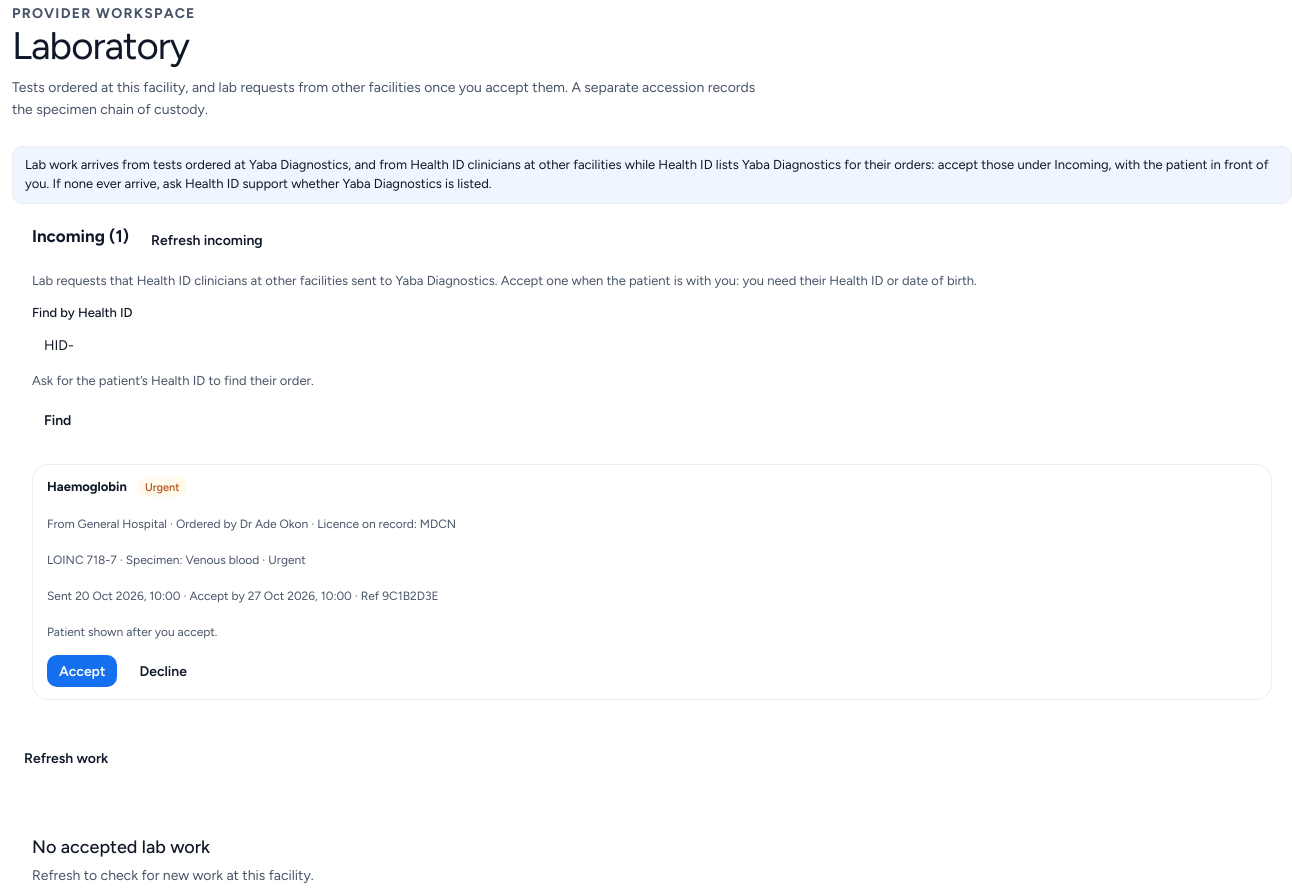
Test: Incoming at a laboratory › says what a refused acceptance means (ORDER_ROUTE_ACCEPT_LOCKED)
The image size is (1292, 893).
Click the button "Accept" at (82, 671), box [47, 655, 118, 687]
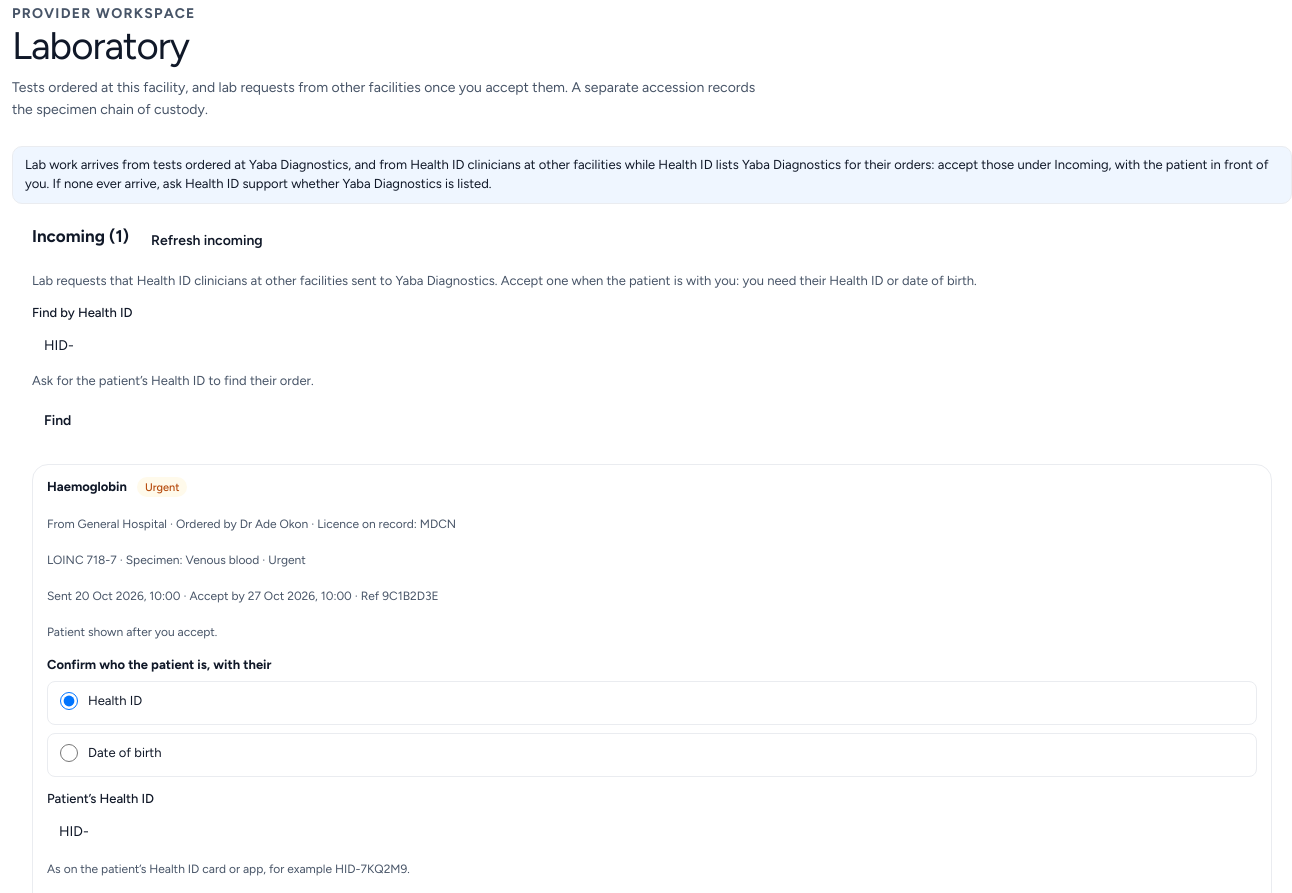
Replace the text in the field labelled "Patient’s Health ID" with "HID-7KQ2M9" at (652, 832), box [47, 813, 1257, 850]
(page scrolled)
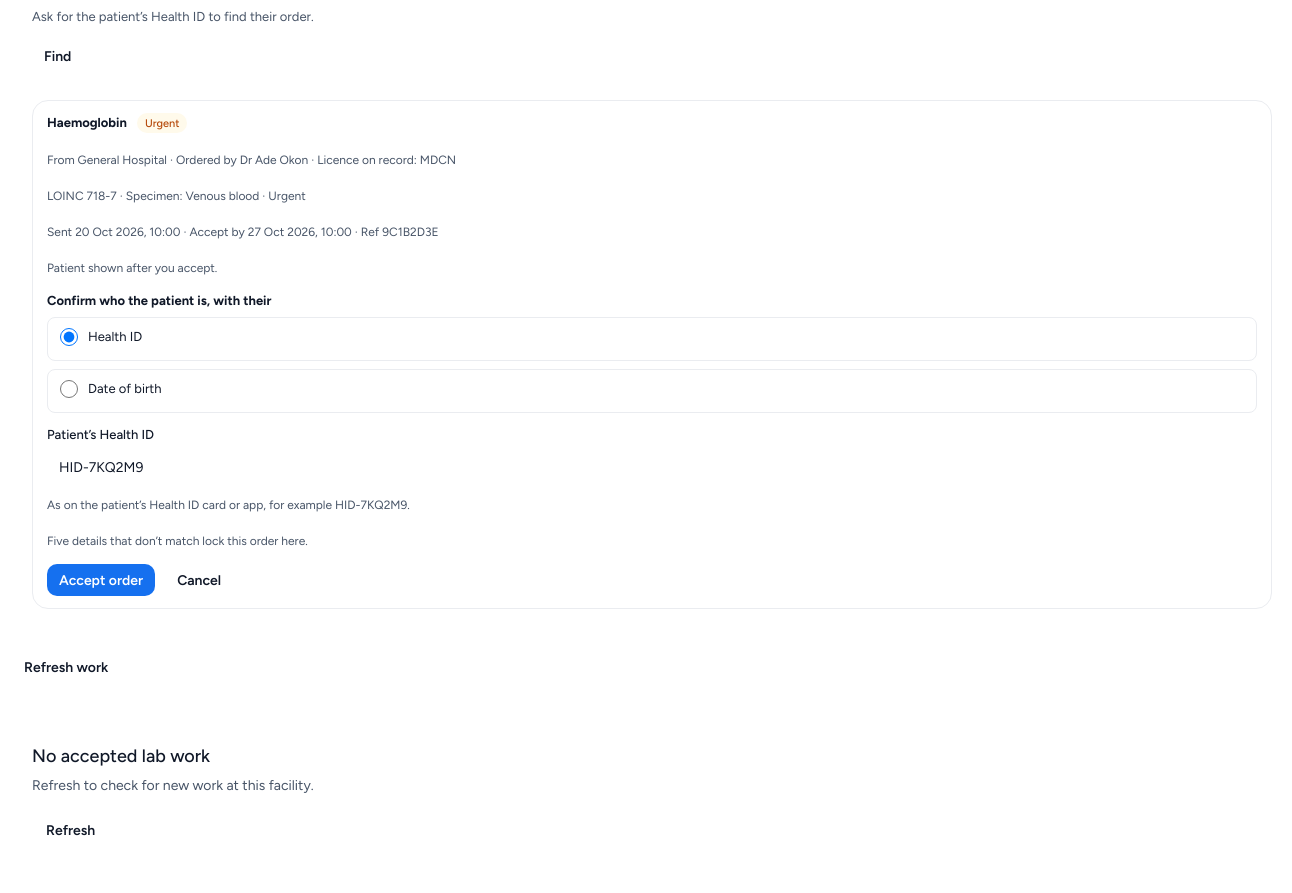
Click the button "Accept order" at (101, 580), box [47, 564, 155, 596]
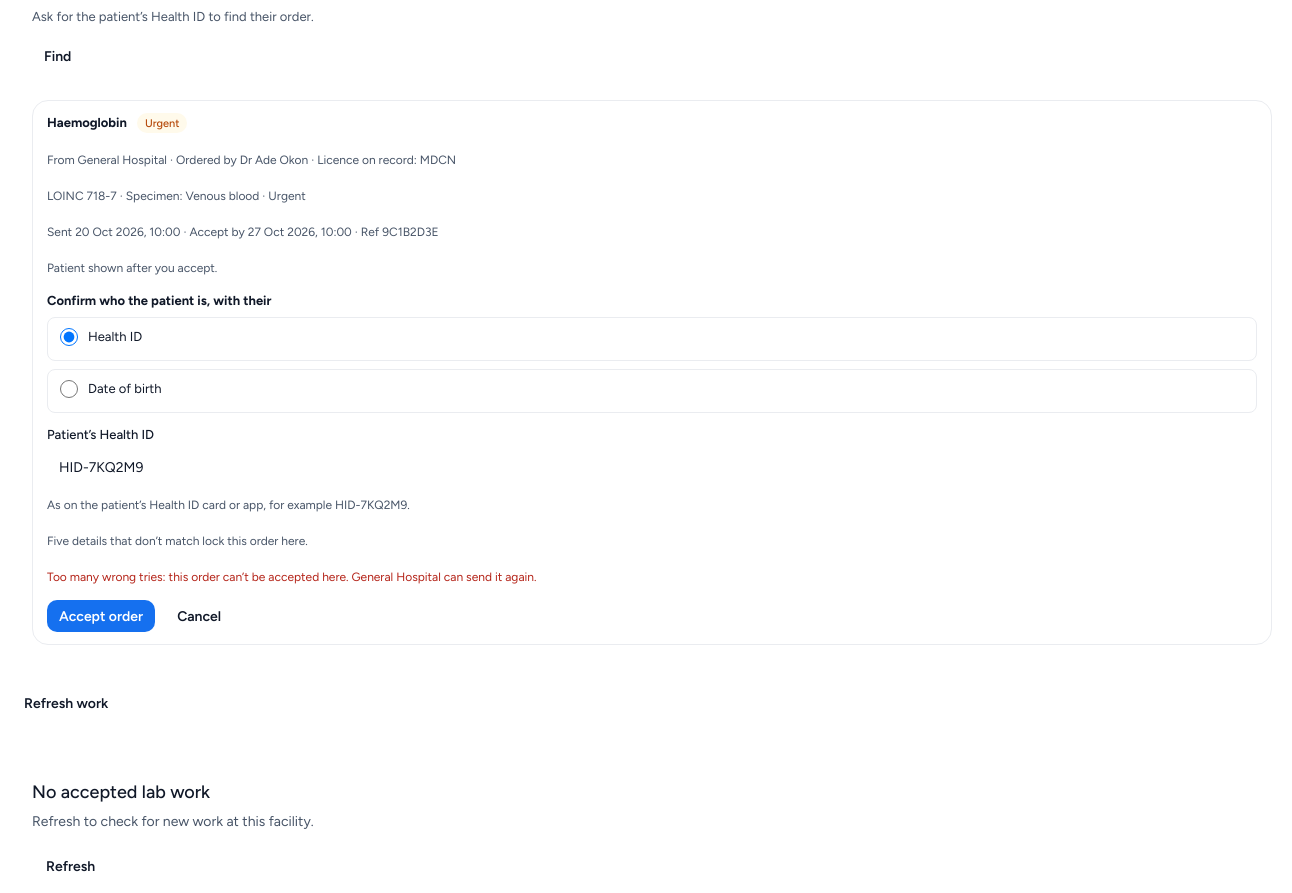
Now the text "Too many wrong tries: this order can’t be accepted here. General Hospital can send it again." is shown, box [47, 570, 536, 584]
